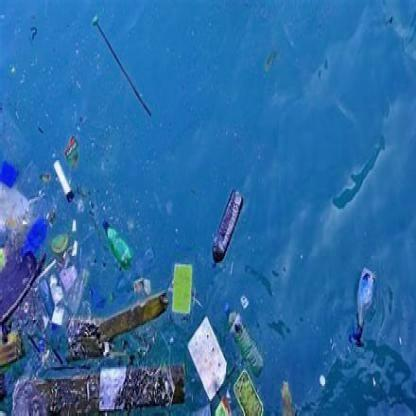Plastic: (220, 306, 270, 378), (208, 188, 244, 266), (351, 265, 374, 358), (97, 219, 135, 269)
Trash: (184, 314, 230, 403), (228, 370, 267, 416), (46, 158, 77, 200), (170, 262, 193, 318), (98, 364, 123, 410), (52, 299, 69, 334), (56, 268, 81, 290), (49, 230, 69, 257)
